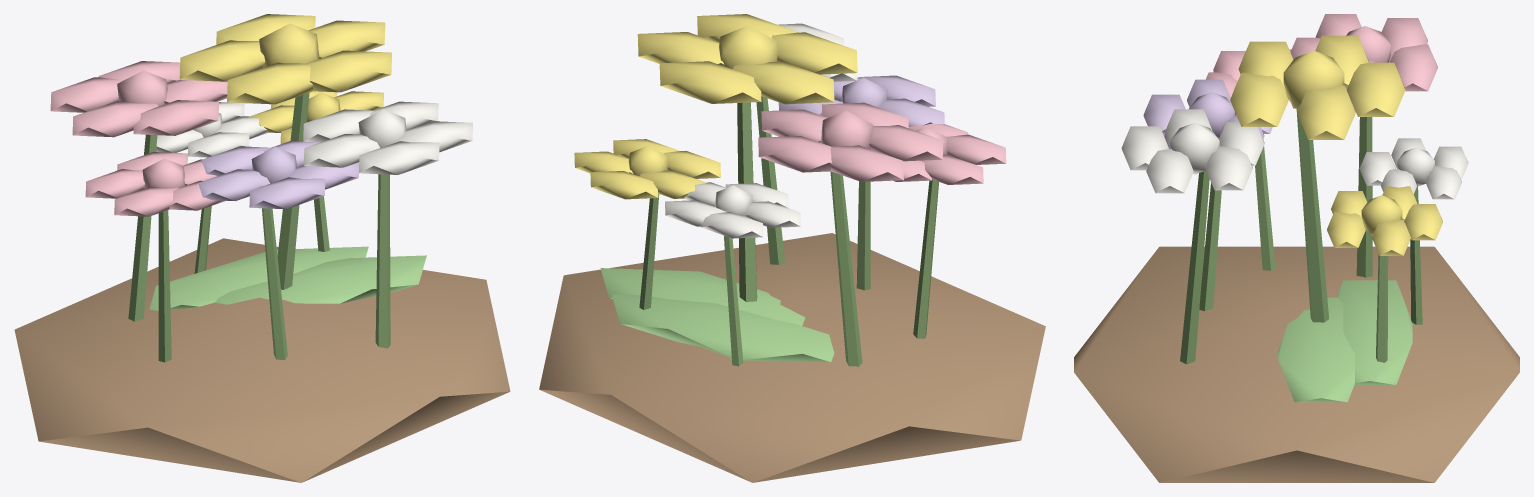
Rendered from hearthvale_flower_clump.glb.
3 views of the same model, side by side, from view 1: azimuth 30°, elevation 25°; view 2: azimuth 150°, elevation 25°; view 3: azimuth 270°, elevation 25° (orthographic). The views are drawn at different scales.
Visible parts, largest first — view 1: hv_flower_clump; view 2: hv_flower_clump; view 3: hv_flower_clump.
Part boxes in pixels (box(x1,y1,x2,y2)): hv_flower_clump: box(14, 14, 510, 482); hv_flower_clump: box(539, 14, 1045, 482); hv_flower_clump: box(1074, 14, 1519, 482).
Size of the model in its own units: 0.6261 by 0.5093 by 0.524.
